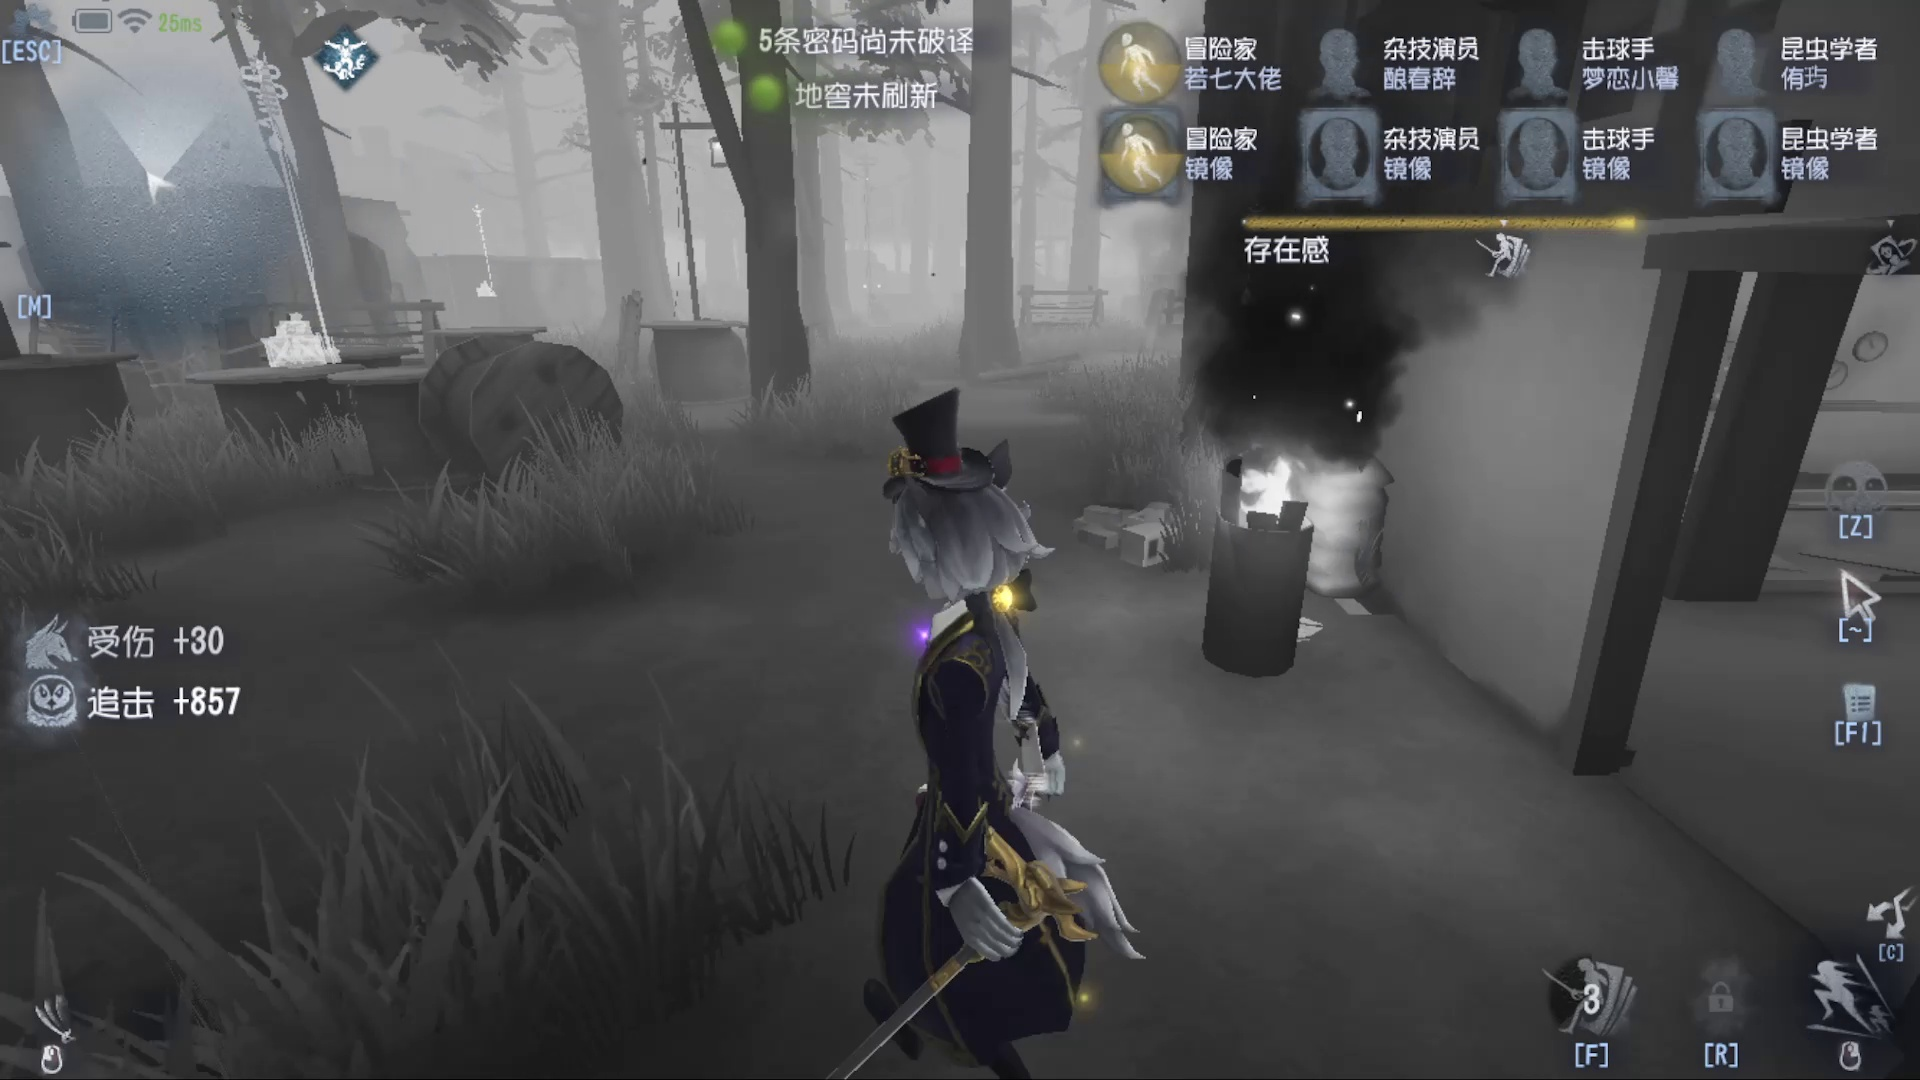密码机: (203, 75, 390, 411), (444, 179, 517, 326)
